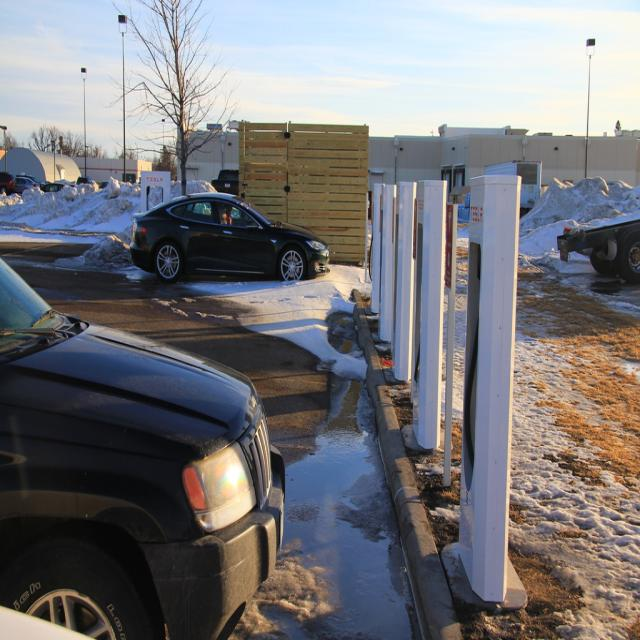car: (124, 177, 327, 289)
